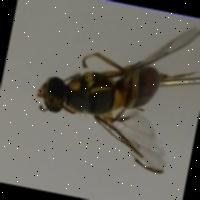Oriental-fruit-fly: (23, 10, 200, 175)
